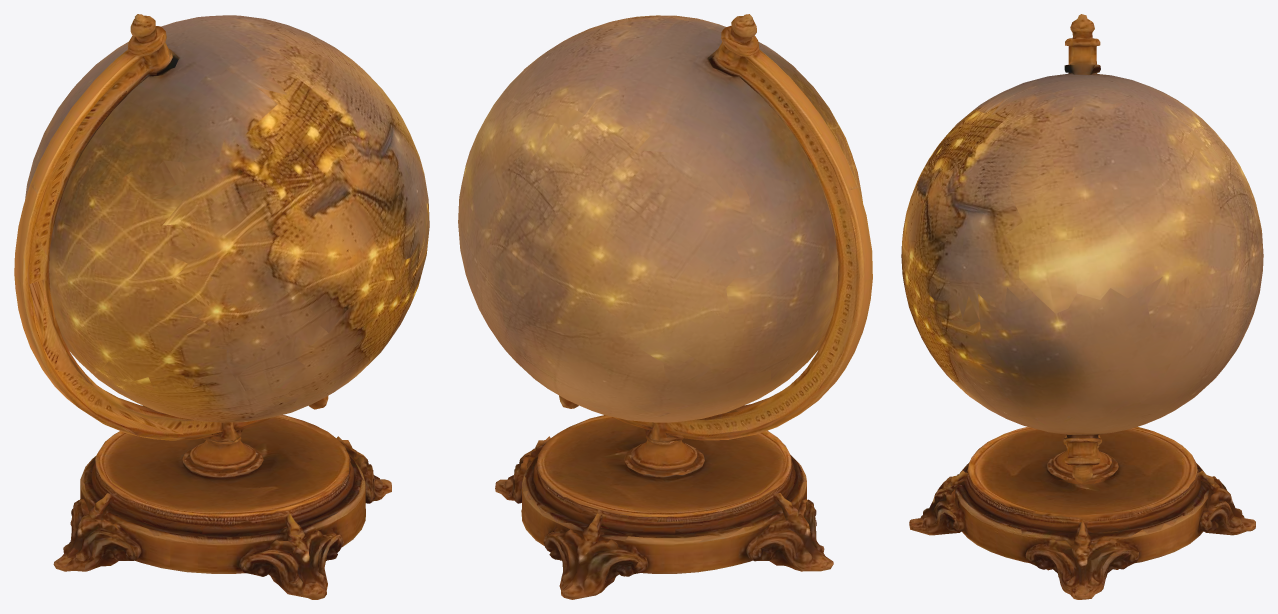
File: globus_animated.glb
3 views of the same model, side by side, from view 1: azimuth 30°, elevation 25°; view 2: azimuth 150°, elevation 25°; view 3: azimuth 270°, elevation 25° (orthographic). The views are drawn at different scales.
Parts seen in each view (by area): view 1: rotation_part, body; view 2: rotation_part, body; view 3: rotation_part, body.
Boxes of the visible parts, x1,y1,x2,y2 form: rotation_part: (25,15,429,422); body: (14,14,391,599); rotation_part: (458,15,862,422); body: (495,14,872,599); rotation_part: (901,73,1263,435); body: (909,14,1255,599).
Size of the model in its own units: 0.2402 by 0.3192 by 0.2199.
Materials: 1 (1 with a texture image).
